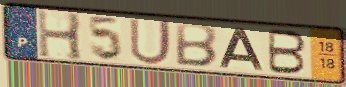5: (86, 15, 125, 62)
A: (217, 26, 267, 72)
B: (173, 21, 219, 69), (266, 27, 308, 76)
H: (35, 7, 86, 63)
U: (127, 16, 173, 67)
